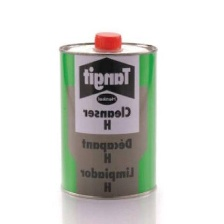cleaning_solution: (57, 27, 165, 202)
